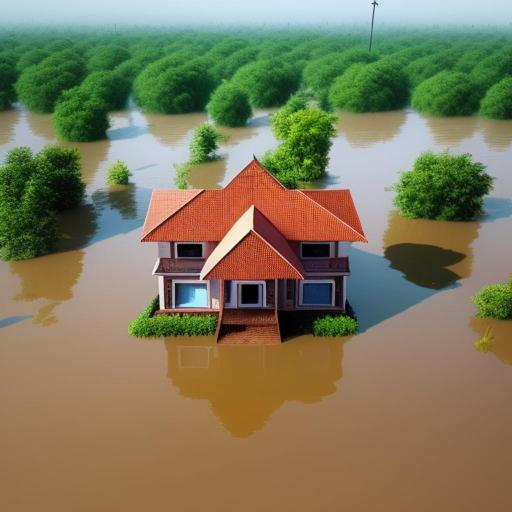flood: (0, 107, 512, 512), (190, 110, 278, 188), (0, 106, 58, 163)
house: (136, 155, 370, 349)
